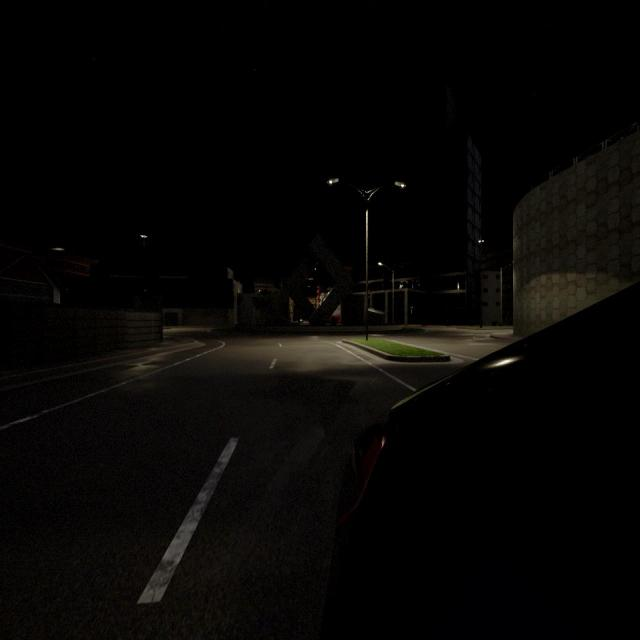Vehicle: (328, 290, 640, 638)
